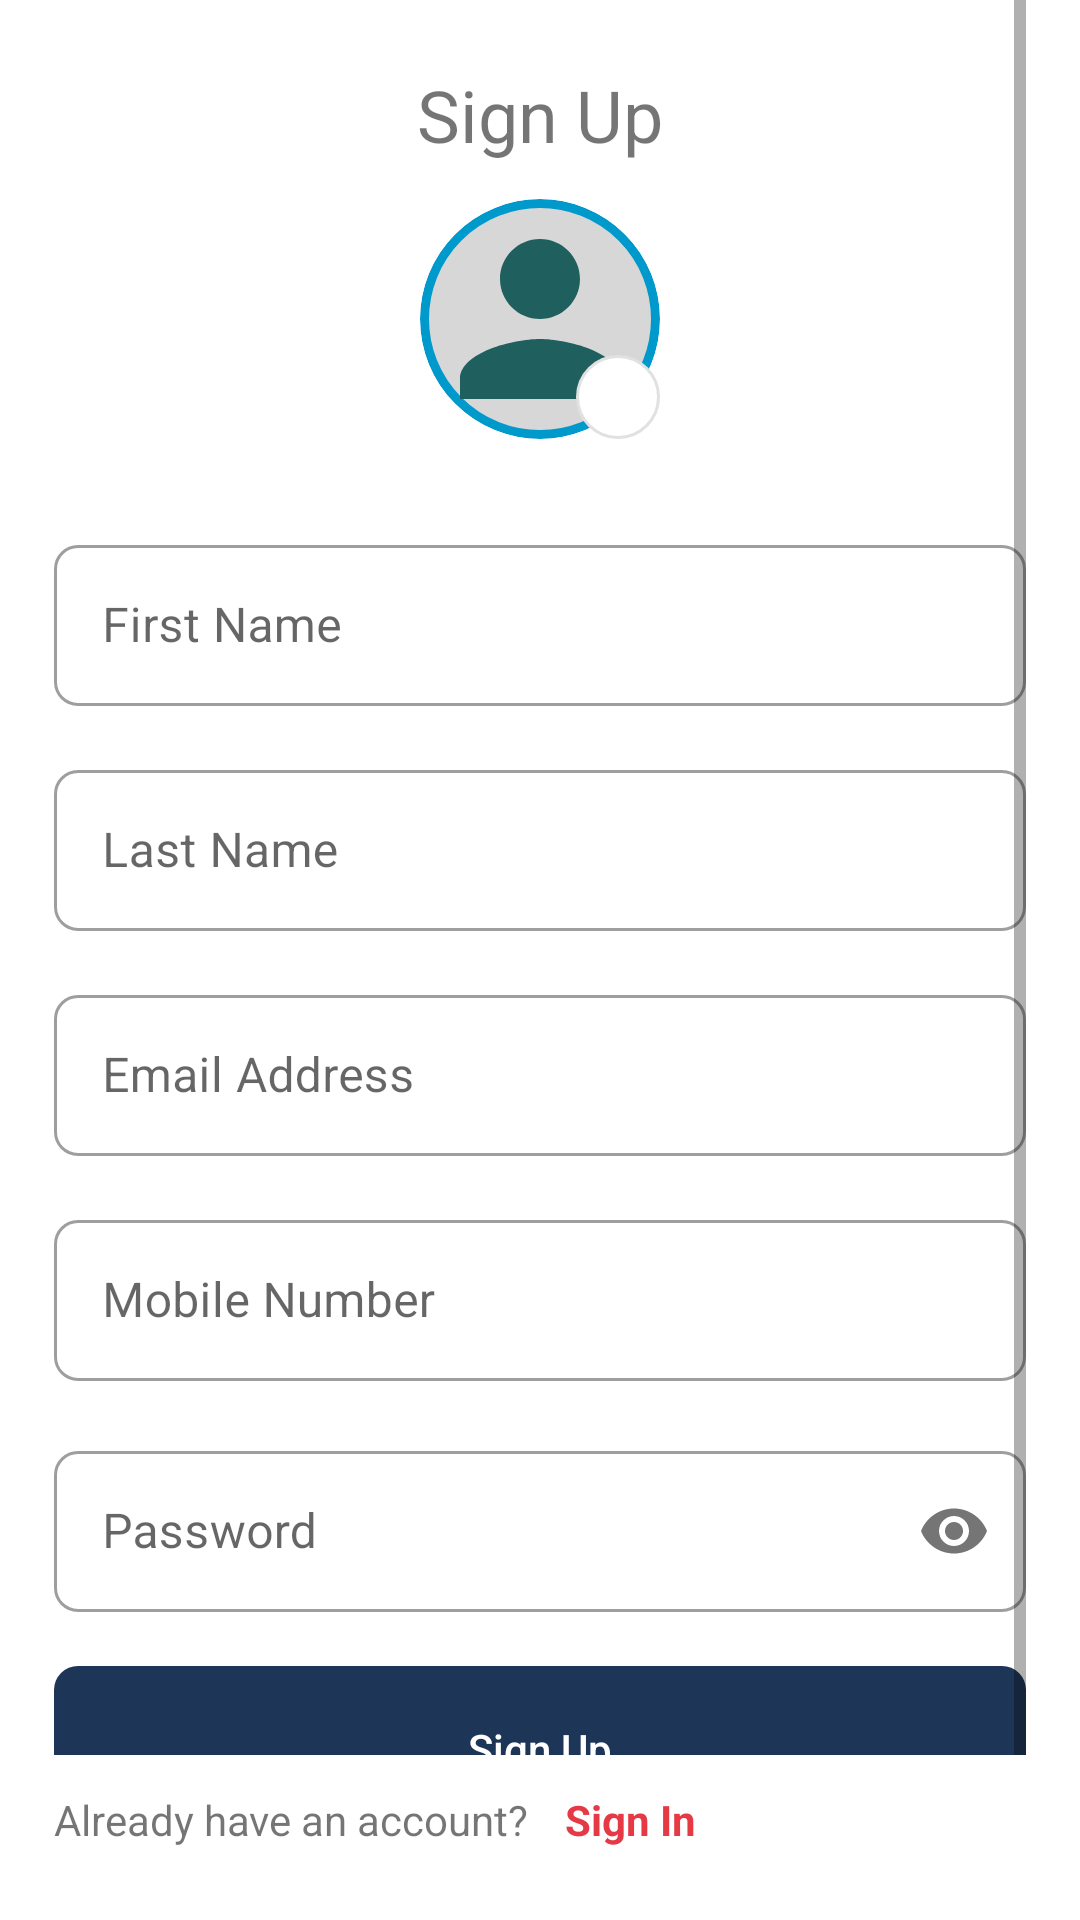

Icon click points for this 1080×1920 phone screenshot, format (x=x, y=y):
person: (x=540, y=319)
